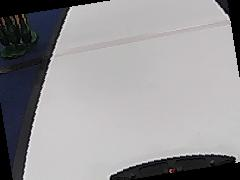corn: (0, 4, 42, 56)
